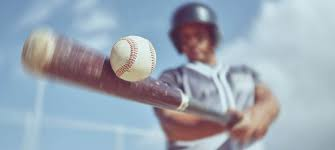baseball bat: (22, 26, 249, 130)
